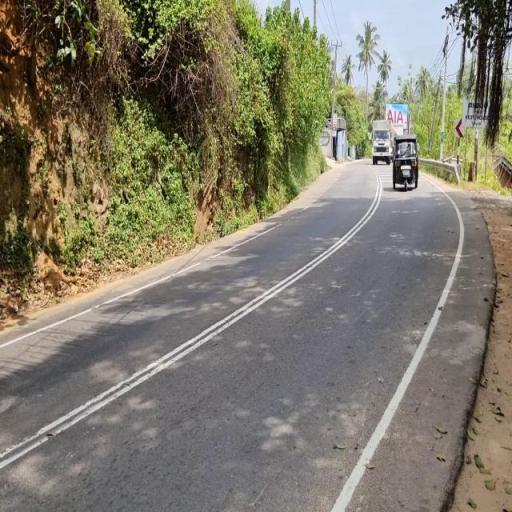double_white_line: (0, 168, 379, 472)
